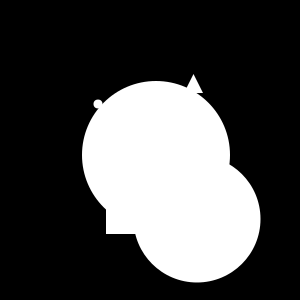circle: (106, 181, 159, 234)
rectangle: (82, 81, 230, 229), (133, 156, 260, 282), (94, 100, 102, 109)
triangle: (184, 74, 203, 93)
